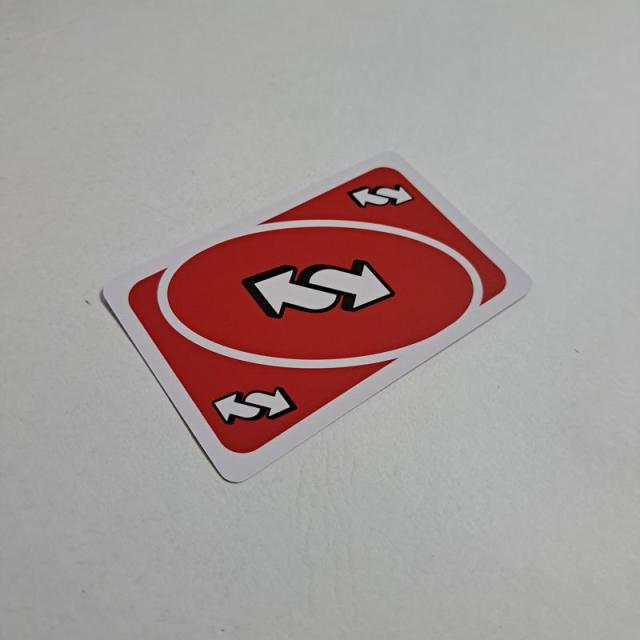Red_Card: (121, 159, 516, 460)
Reverse: (344, 172, 421, 215)
